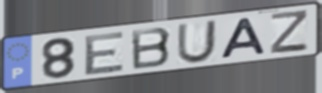8: (40, 36, 77, 81)
A: (218, 16, 269, 61)
B: (129, 26, 173, 71)
E: (83, 29, 127, 77)
U: (175, 18, 219, 65)
Z: (268, 8, 310, 55)
